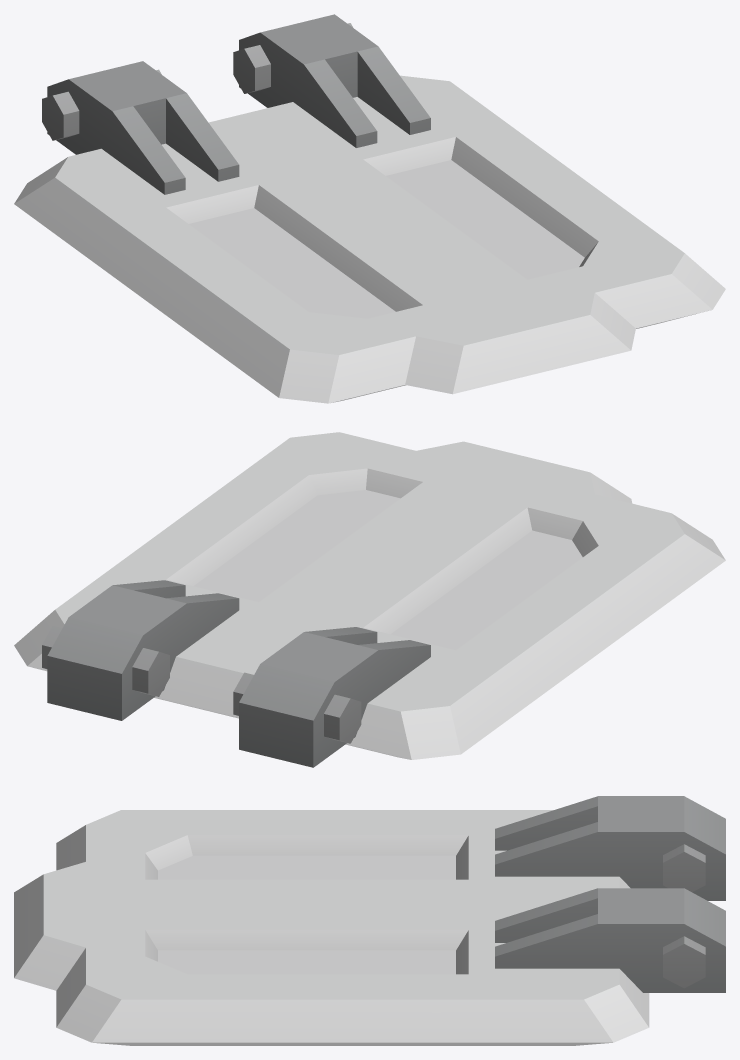
Rendered from Hatch_012_door_001.fbx.
3 views of the same model, one above another, from view 1: azimuth 30°, elevation 25°; view 2: azimuth 150°, elevation 25°; view 3: azimuth 270°, elevation 25° (orthographic).
Visible parts, largest first — view 1: Hatch_012_door_001; view 2: Hatch_012_door_001; view 3: Hatch_012_door_001.
Boxes of the visible parts, box(x1,y1,x2,y2) form: Hatch_012_door_001: box(14, 14, 725, 403); Hatch_012_door_001: box(14, 432, 725, 767); Hatch_012_door_001: box(14, 796, 725, 1045).
Size of the model in its own units: 60 by 84.07 by 12.32.
